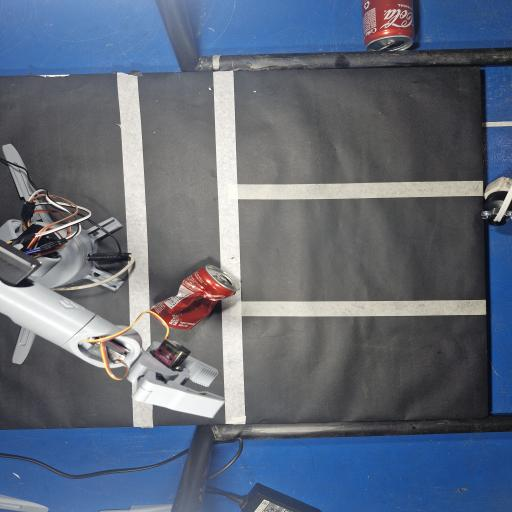lata_defectuoso: (151, 265, 240, 329)
